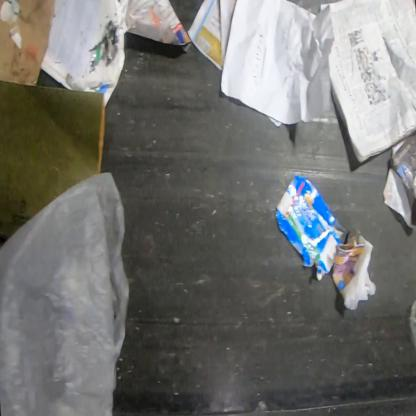cardboard: (0, 80, 106, 248), (273, 175, 343, 283), (0, 1, 56, 85)
soft_plastic: (0, 173, 130, 416), (408, 300, 415, 348)
